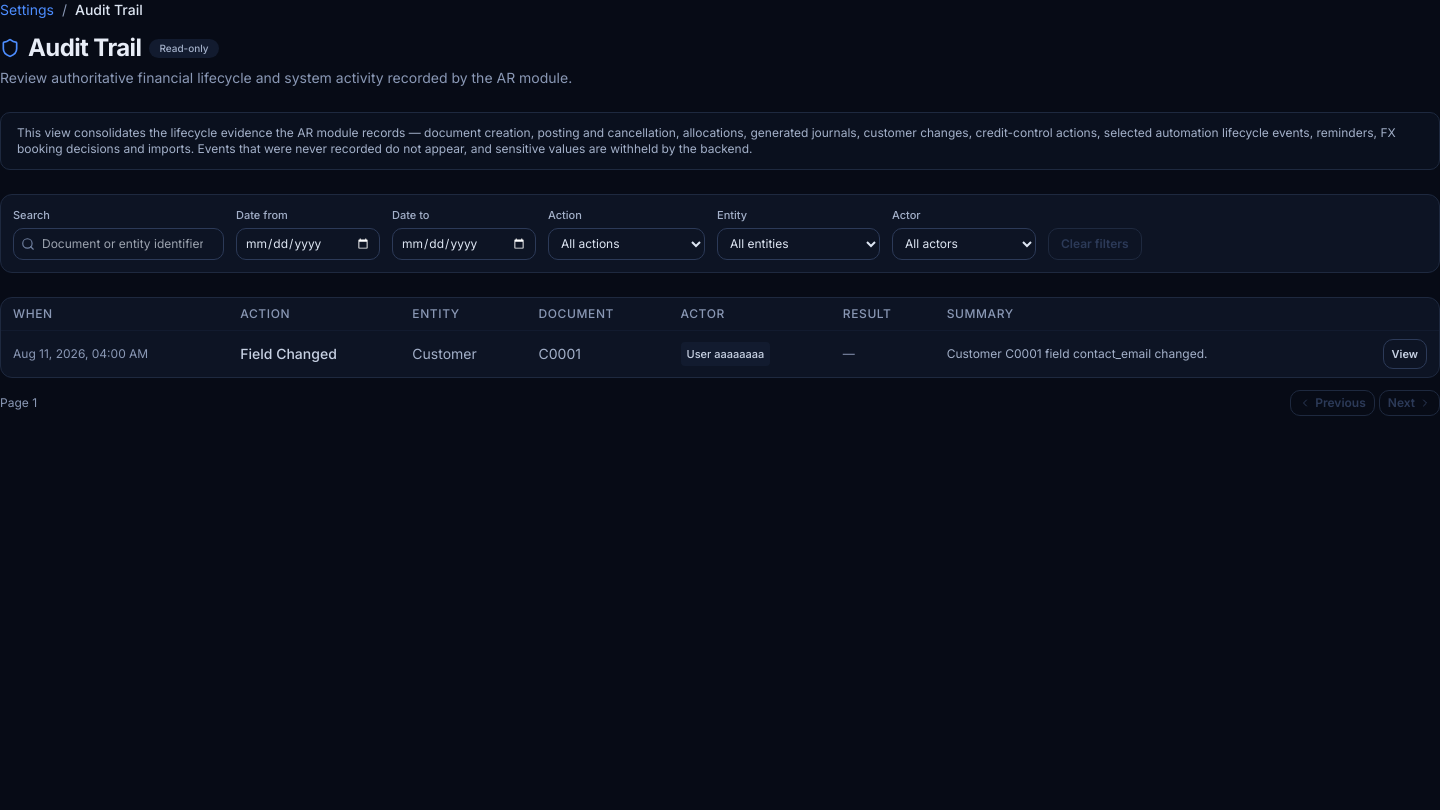
Audit actor and metadata safety › shows a redaction notice instead of a sensitive value, including in title attributes
Expected: the text "Customer C0001 field contact_email changed." is shown, [935,330,1341,376]
Click the button "View" at (1405, 354), box [1382,338,1427,368]
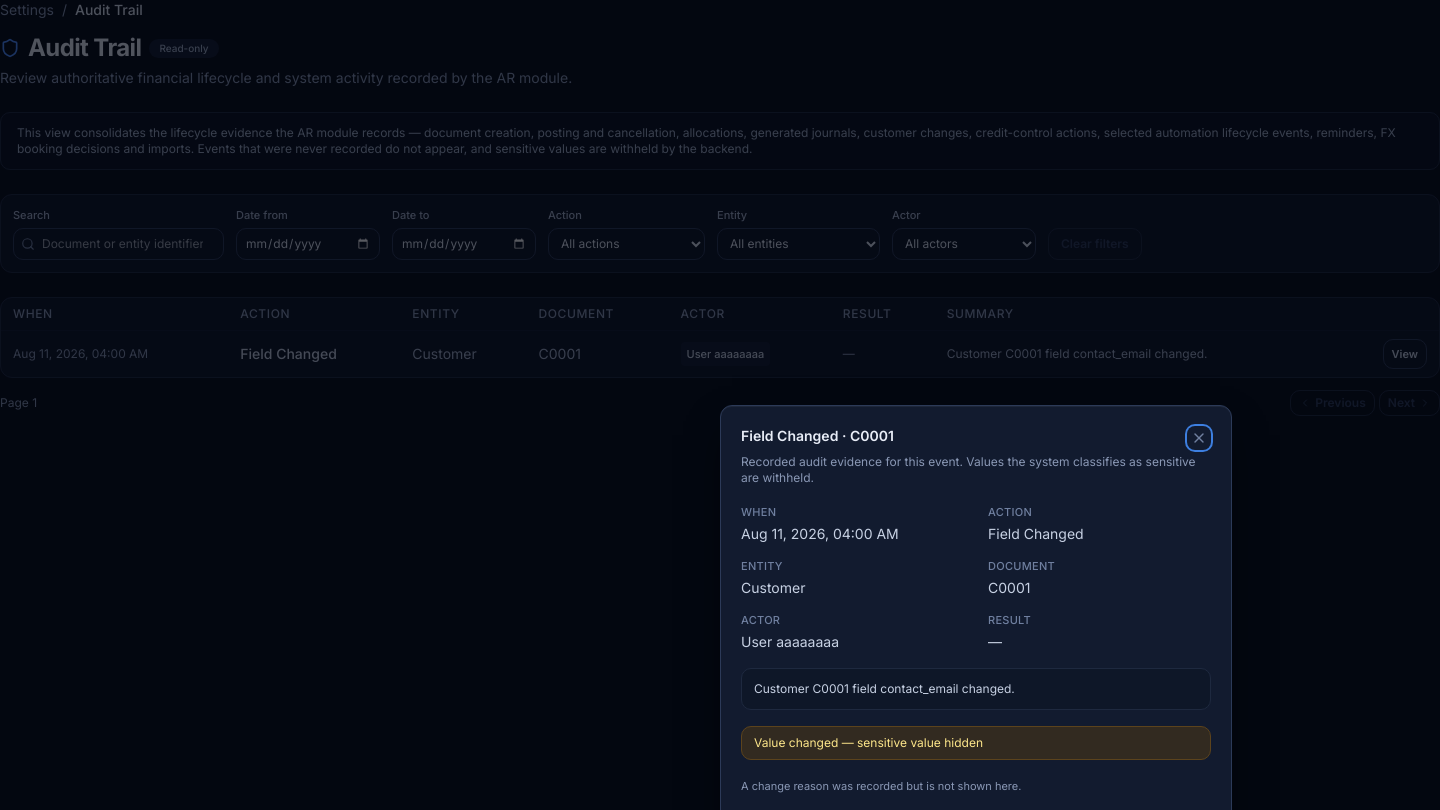
Expected: the text "Value changed — sensitive value hidden" is shown, [741,726,1211,760]
Expected: the text "A change reason was recorded but is not shown here." is shown, [741,779,1021,793]
